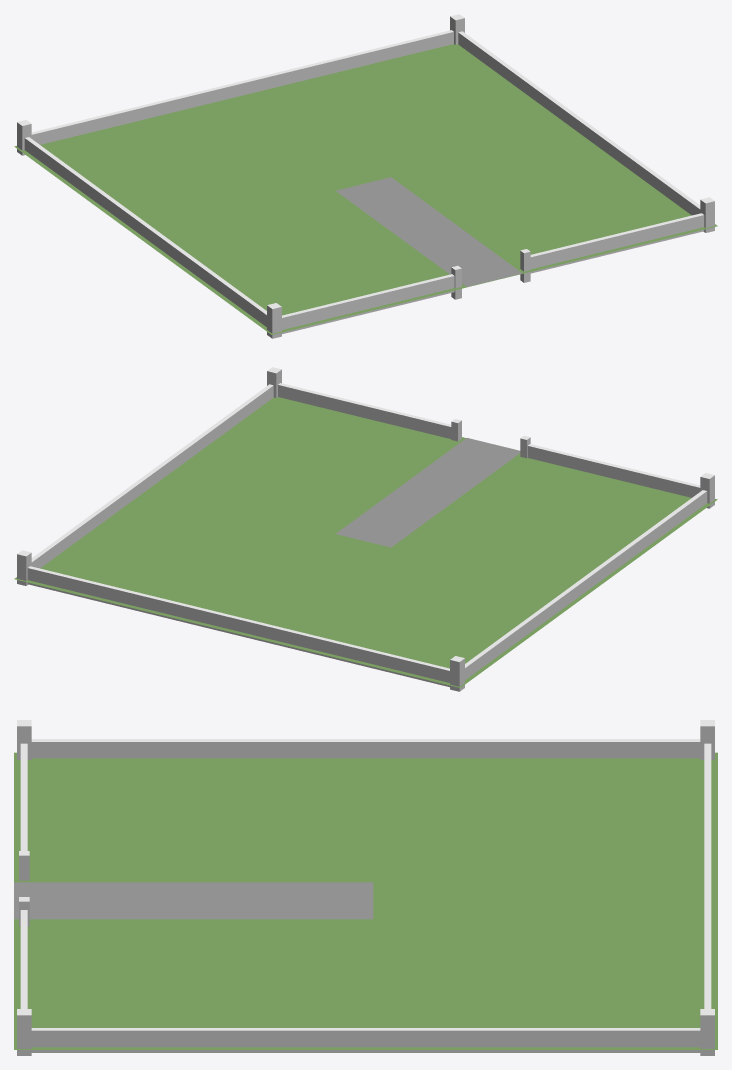
File: tile_for_home_1x1_004.fbx
The picture shows the model from 3 angles, top to bottom: view 1: azimuth 30°, elevation 25°; view 2: azimuth 150°, elevation 25°; view 3: azimuth 270°, elevation 25°; orthographic projection. The views are drawn at different scales.
Visible parts, largest first — view 1: tile_for_home_1x1_004; view 2: tile_for_home_1x1_004; view 3: tile_for_home_1x1_004.
Part boxes in pixels (<box>): tile_for_home_1x1_004: <box>14,14,717,338</box>; tile_for_home_1x1_004: <box>14,367,717,691</box>; tile_for_home_1x1_004: <box>14,720,717,1055</box>.
Bounding box in the file's own units: 800 × 61.68 × 800.
